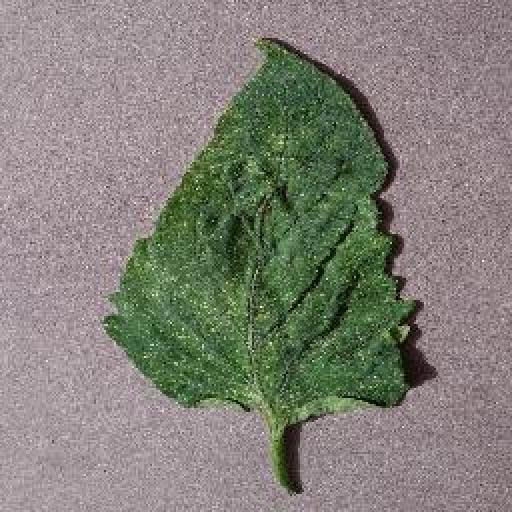Spider Mites: (101, 38, 420, 426)
